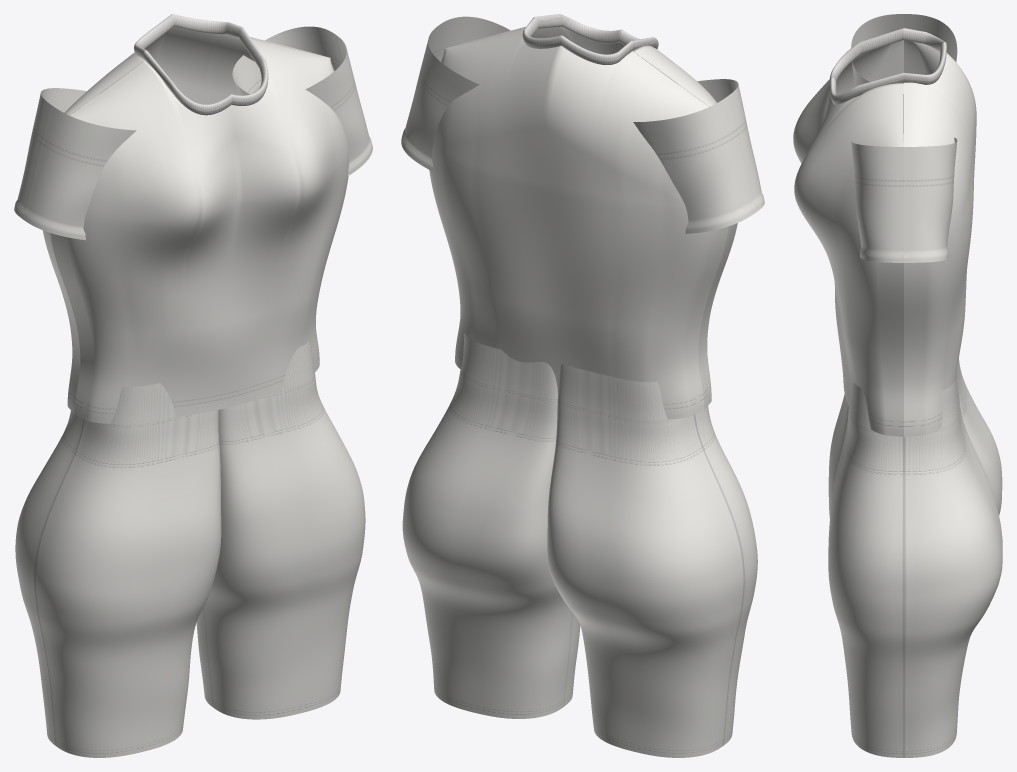
Rendered from ensemble-sport-femme.glb.
3 renders of one model, left to right at view 1: azimuth 30°, elevation 25°; view 2: azimuth 150°, elevation 25°; view 3: azimuth 270°, elevation 25°, orthographic. The views are drawn at different scales.
Parts seen in each view (by area): view 1: Devant, Short_gauche, Short_droit, Manche_gauche, Dos, Manche_droite, Col_montant; view 2: Dos, Short_gauche, Short_droit, Manche_gauche, Manche_droite, Devant, Col_montant; view 3: Short_droit, Devant, Dos, Manche_droite, Short_gauche, Col_montant, Manche_gauche.
Boxes of the visible parts, x1,y1,x2,y2 form: Devant: [50, 39, 349, 423]; Short_gauche: [15, 383, 221, 757]; Short_droit: [196, 341, 365, 719]; Manche_gauche: [14, 88, 136, 240]; Dos: [42, 26, 327, 413]; Manche_droite: [232, 26, 372, 175]; Col_montant: [134, 14, 268, 115]; Dos: [429, 29, 728, 419]; Short_gauche: [547, 363, 757, 757]; Short_droit: [402, 333, 580, 718]; Manche_gauche: [633, 79, 764, 233]; Manche_droite: [401, 16, 510, 171]; Devant: [447, 26, 737, 409]; Col_montant: [522, 14, 658, 64]; Short_droit: [828, 371, 1002, 757]; Devant: [793, 40, 903, 436]; Dos: [904, 40, 976, 436]; Manche_droite: [851, 134, 957, 262]; Short_gauche: [828, 358, 1002, 517]; Col_montant: [829, 28, 946, 104]; Manche_gauche: [851, 14, 957, 133].
Bounding box in the file's own units: 0.4807 × 0.918 × 0.2675.
Materials: 5 (5 with a texture image).
